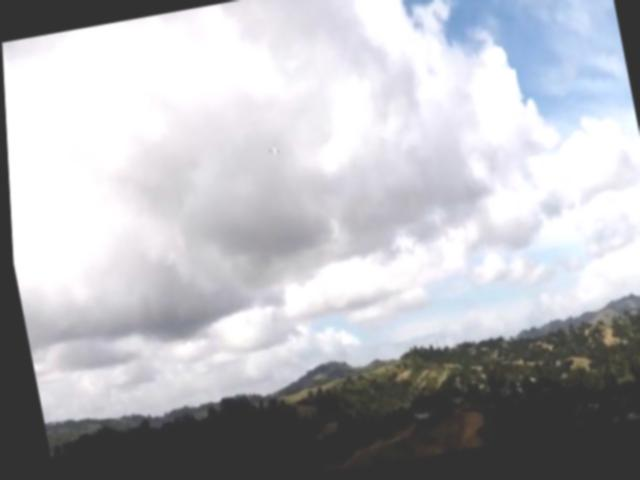iha: (263, 144, 281, 160)
